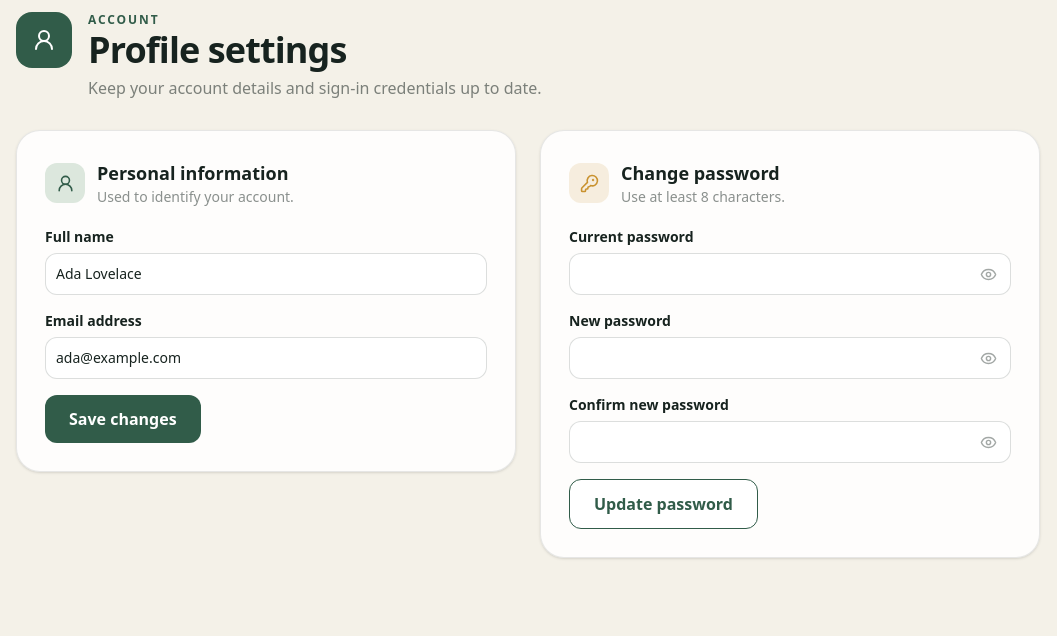
Test: changes the password and clears the sensitive fields
The width and height of the screenshot is (1057, 636).
Step 1. Type "old-password" into the password field labelled "Current password" → [790, 274], box x1=569 y1=253 x2=1011 y2=295
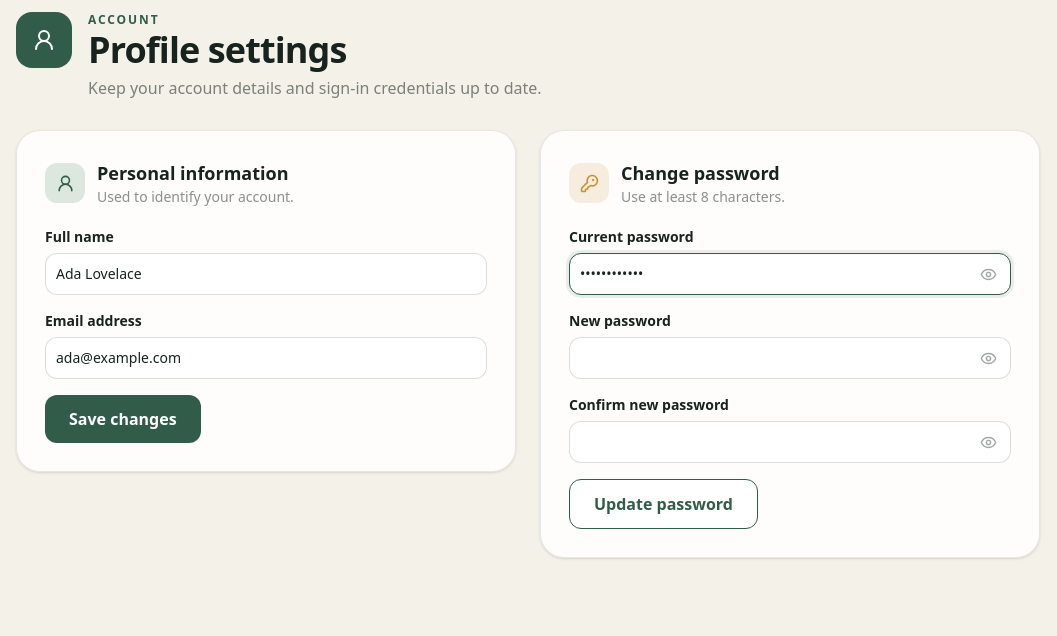
Step 2. Type "new-password" into the password field labelled "New password" → [790, 358], box x1=569 y1=337 x2=1011 y2=379
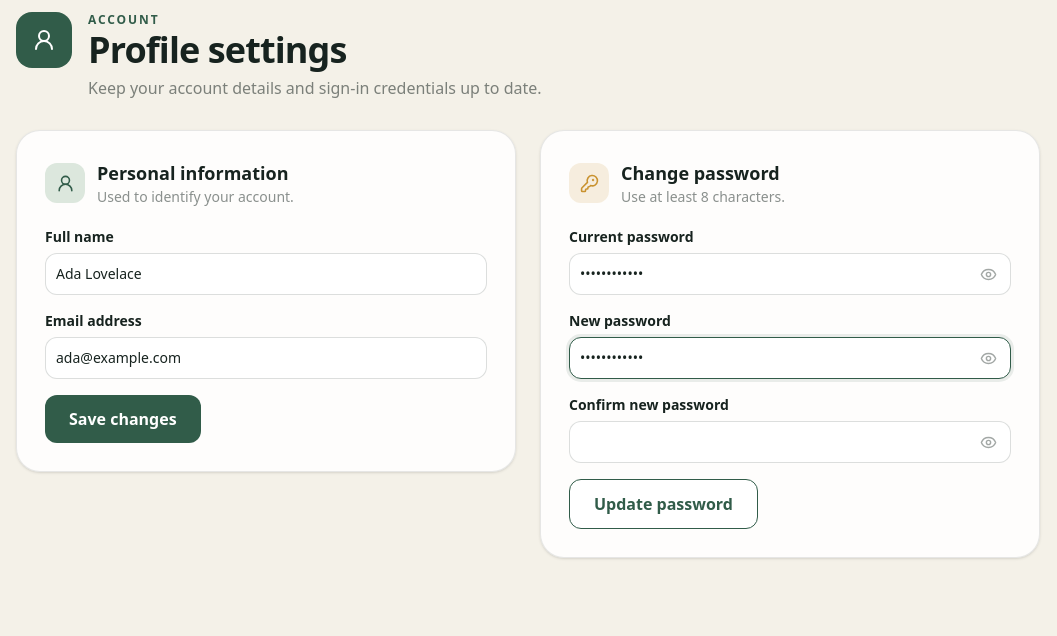
Step 3. Type "new-password" into the password field labelled "Confirm new password" → [790, 442], box x1=569 y1=421 x2=1011 y2=463
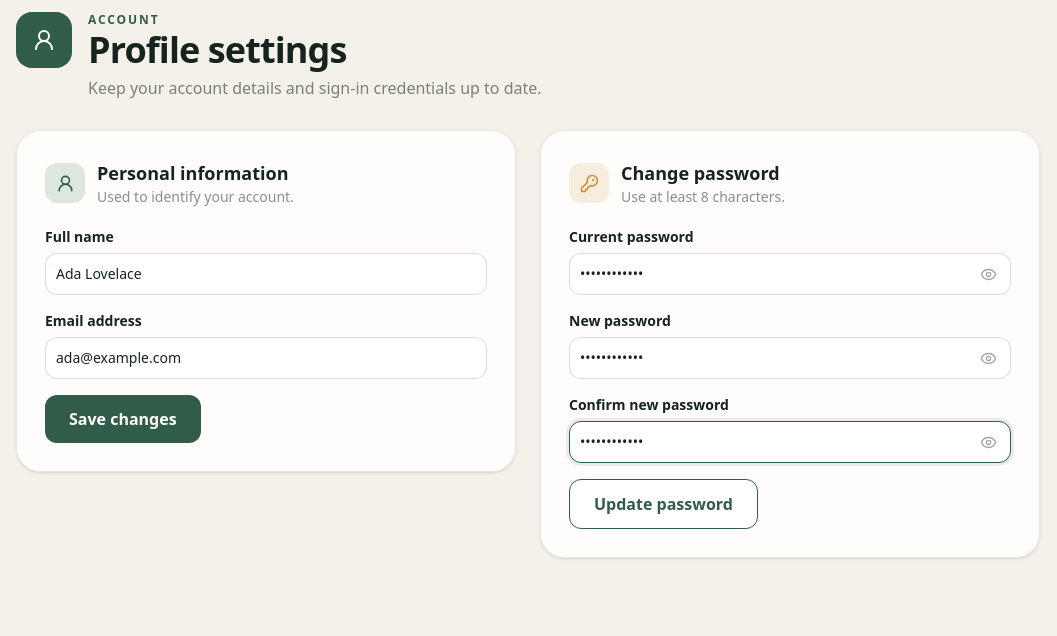
Step 4. Click the button "Update password" → [664, 504], box x1=569 y1=479 x2=758 y2=529
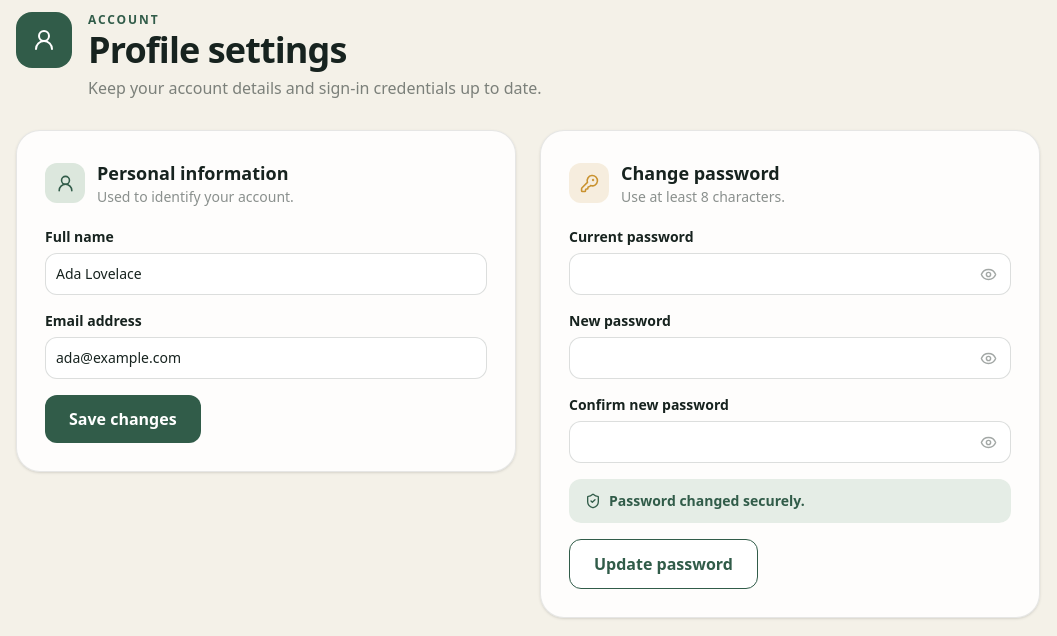
Now the message reads "Password changed securely.", box x1=609 y1=491 x2=805 y2=510
Now the password field labelled "Current password" is empty, box x1=569 y1=253 x2=1011 y2=295
Now the password field labelled "New password" is empty, box x1=569 y1=337 x2=1011 y2=379
